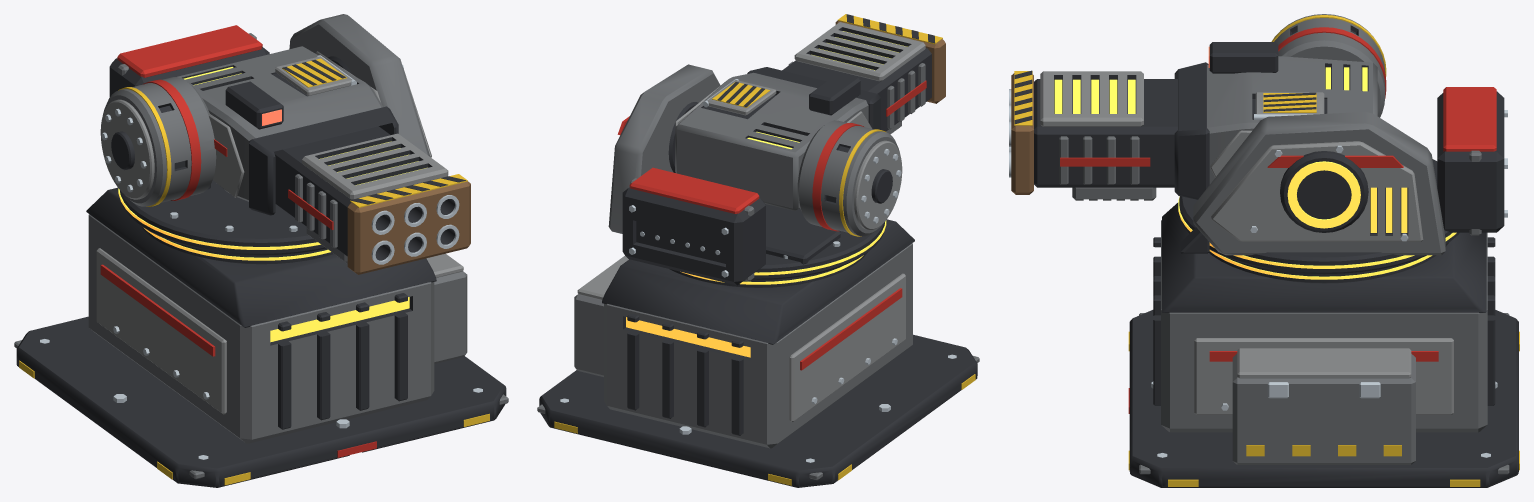
The model's file is R4W_Shotgun.glb.
3 views of the same model, side by side, from view 1: azimuth 30°, elevation 25°; view 2: azimuth 150°, elevation 25°; view 3: azimuth 270°, elevation 25° (orthographic). The views are drawn at different scales.
Visible parts, largest first — view 1: R4W_Shotgun_Base, R4W_Shotgun_Pitch, R4W_Shotgun_Barrels, R4W_Shotgun_Yaw, R4W_Shotgun_LoadingGate; view 2: R4W_Shotgun_Base, R4W_Shotgun_Yaw, R4W_Shotgun_Pitch, R4W_Shotgun_Barrels, R4W_Shotgun_LoadingGate; view 3: R4W_Shotgun_Base, R4W_Shotgun_Yaw, R4W_Shotgun_Pitch, R4W_Shotgun_Barrels, R4W_Shotgun_LoadingGate, R4W_Shotgun_Pump.
Part boxes in pixels (x1,y1,x2,y2): R4W_Shotgun_Base: [14, 187, 508, 487]; R4W_Shotgun_Pitch: [100, 46, 398, 215]; R4W_Shotgun_Barrels: [274, 126, 470, 274]; R4W_Shotgun_Yaw: [109, 14, 431, 255]; R4W_Shotgun_LoadingGate: [275, 55, 356, 95]; R4W_Shotgun_Base: [537, 219, 979, 487]; R4W_Shotgun_Yaw: [608, 64, 886, 285]; R4W_Shotgun_Pitch: [675, 67, 902, 236]; R4W_Shotgun_Barrels: [782, 14, 945, 131]; R4W_Shotgun_LoadingGate: [703, 79, 776, 115]; R4W_Shotgun_Base: [1128, 202, 1519, 487]; R4W_Shotgun_Yaw: [1178, 87, 1507, 274]; R4W_Shotgun_Pitch: [1174, 14, 1386, 199]; R4W_Shotgun_Barrels: [1009, 70, 1177, 194]; R4W_Shotgun_LoadingGate: [1254, 92, 1324, 120]; R4W_Shotgun_Pump: [1072, 187, 1156, 200].
Bounding box in the file's own units: 0.5126 × 0.486 × 0.6705.
